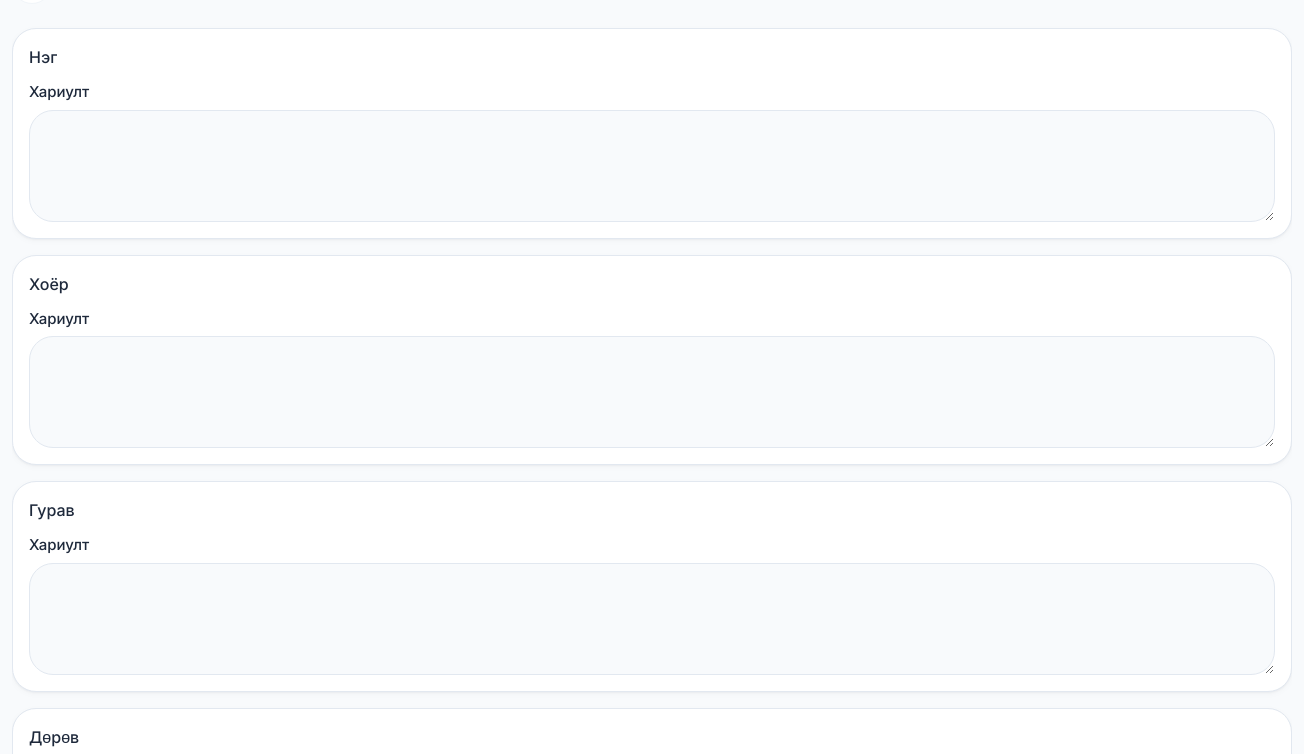
a questionnaire's own settings › says the survey's own words after submitting
Expected: the text "Нэг" is shown, [29,47,57,67]
Type "х" into the text box labelled "Хариулт" below "Нэг". click: (652, 166)
box: [29,110,1275,222]
Type "х" into the text box labelled "Хариулт" below "Хоёр". click: (652, 392)
box: [29,336,1275,448]
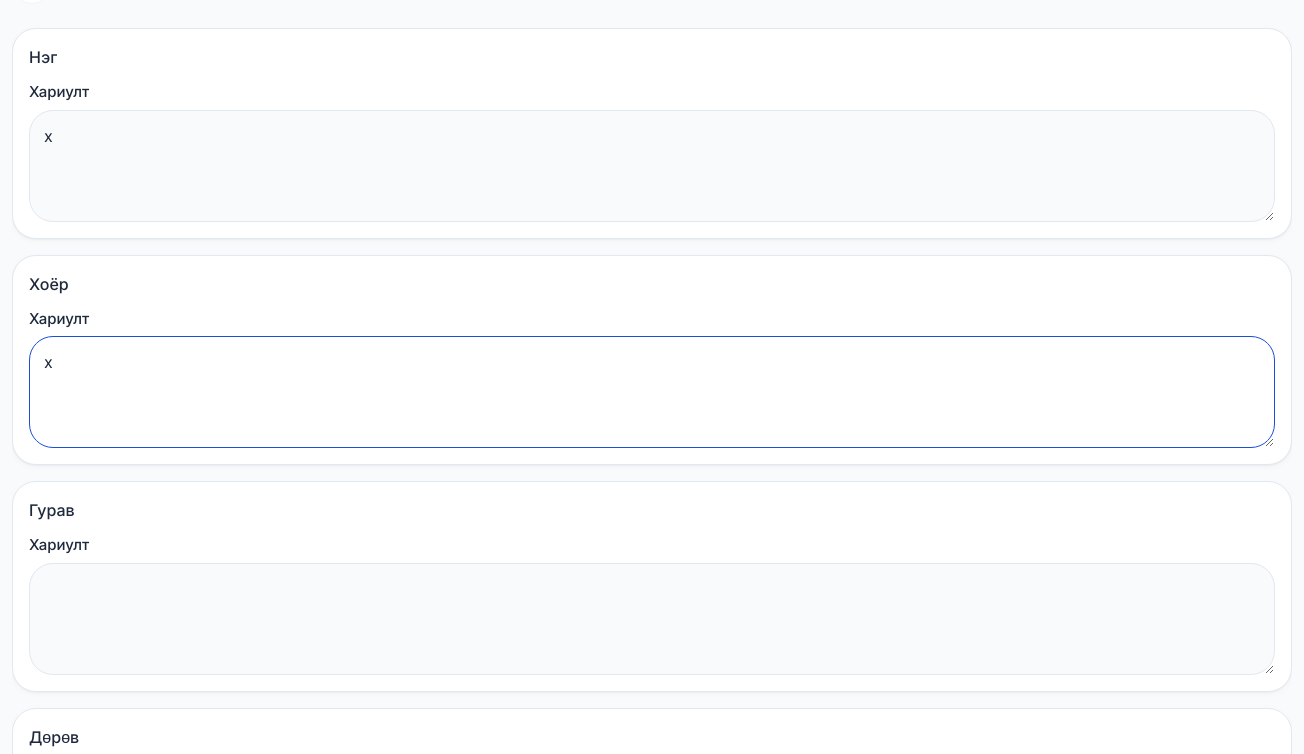
Type "х" into the text box labelled "Хариулт" below "Гурав". click: (652, 618)
box: [29,562,1275,674]
(page scrolled)
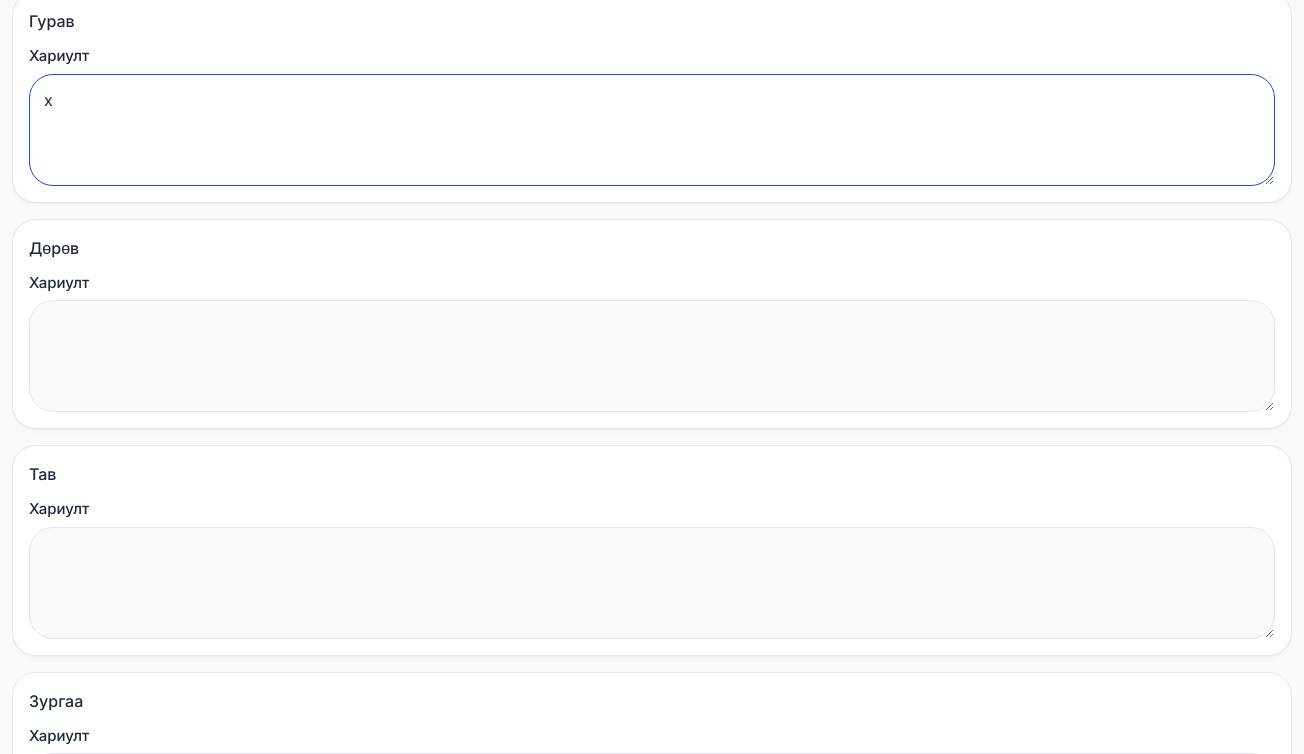
Type "х" into the text box labelled "Хариулт" below "Дөрөв". click: (652, 356)
box: [29,300,1275,412]
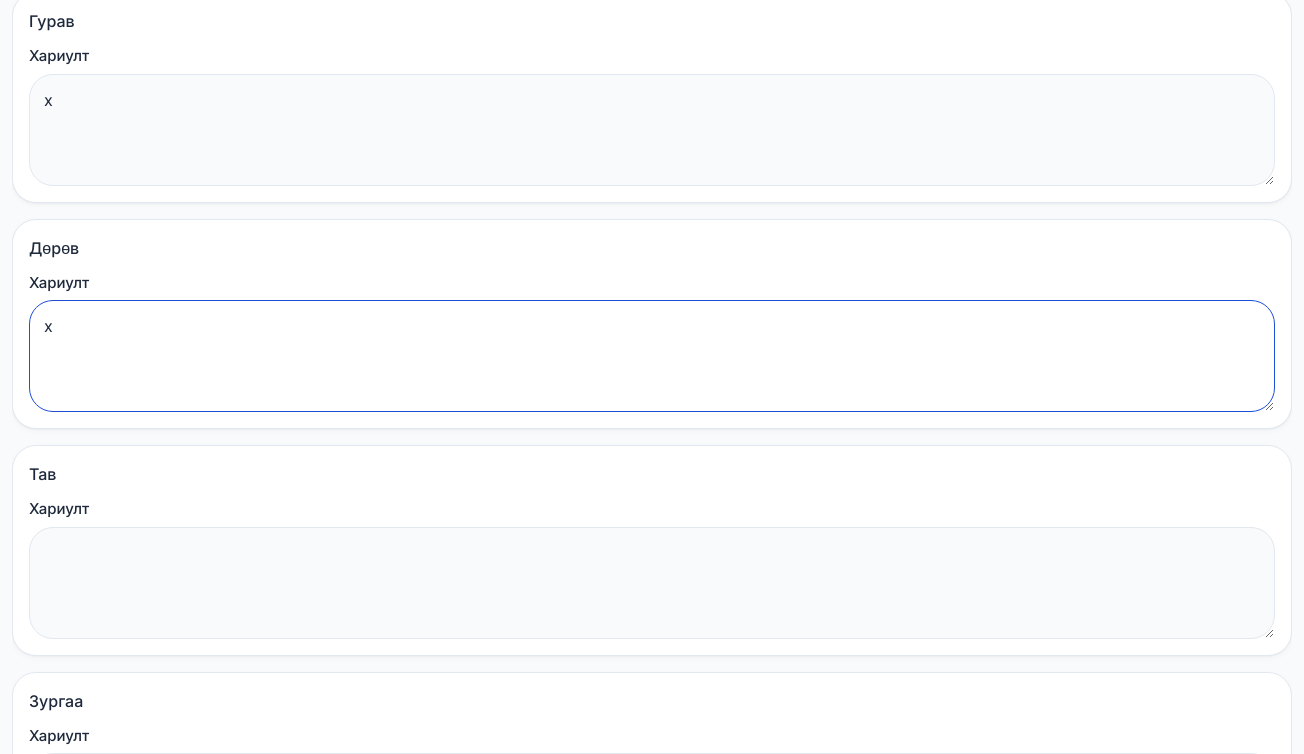
Type "х" into the text box labelled "Хариулт" below "Тав". click: (652, 582)
box: [29,526,1275,638]
(page scrolled)
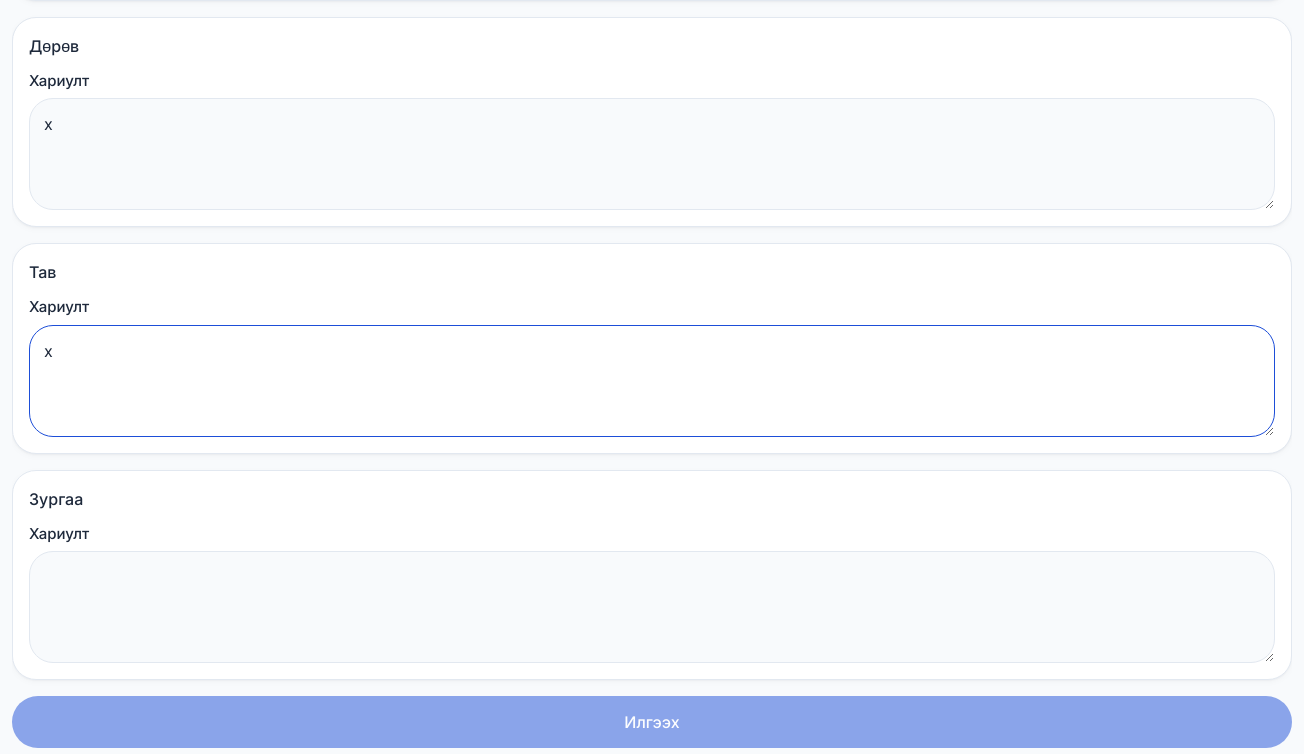
Type "х" into the text box labelled "Хариулт" below "Зургаа". click: (652, 607)
box: [29,551,1275,663]
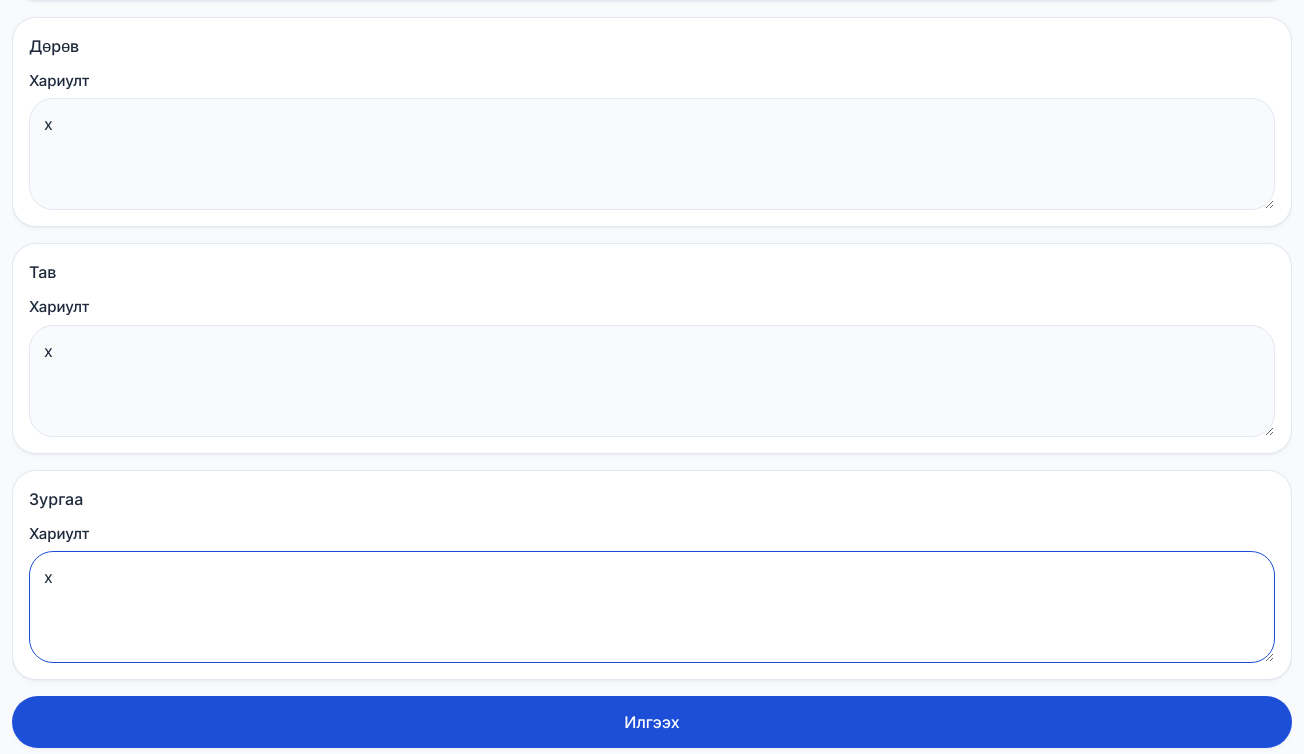
Click the button "Илгээх". click: (652, 722)
box: [12,696,1292,748]
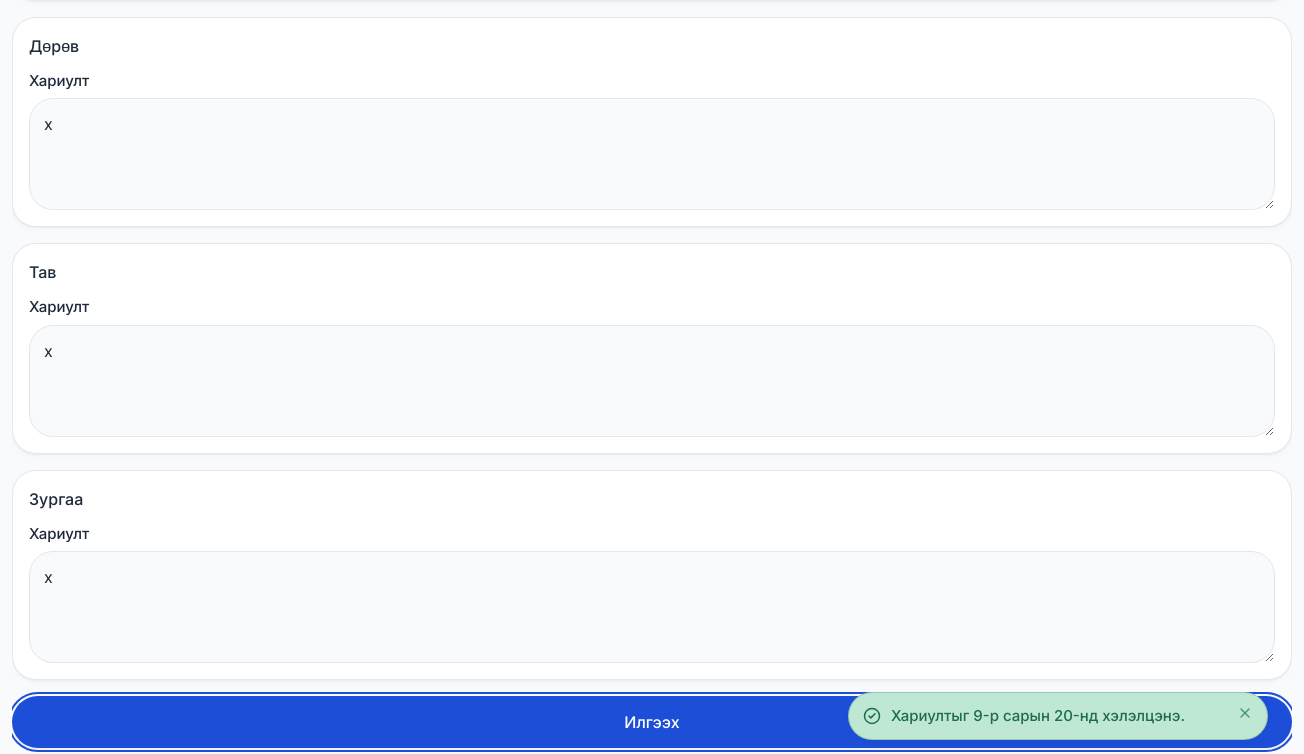
Expected: the text "Хариултыг 9-р сарын 20-нд хэлэлцэнэ." is shown, [891,704,1227,727]
